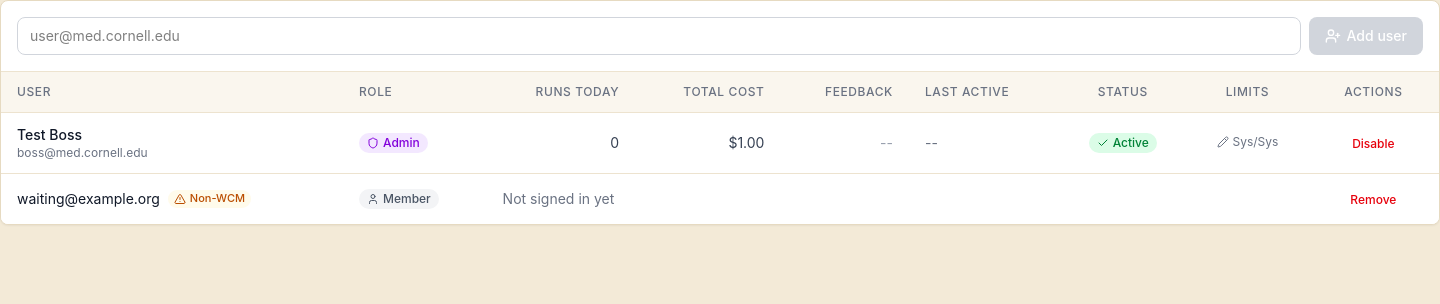
AdminUsers (one Users panel) › refuses an address already on the list
Type "WAITING@example.org" into the field named "New user email". click: (659, 36)
box: [17,17,1300,55]
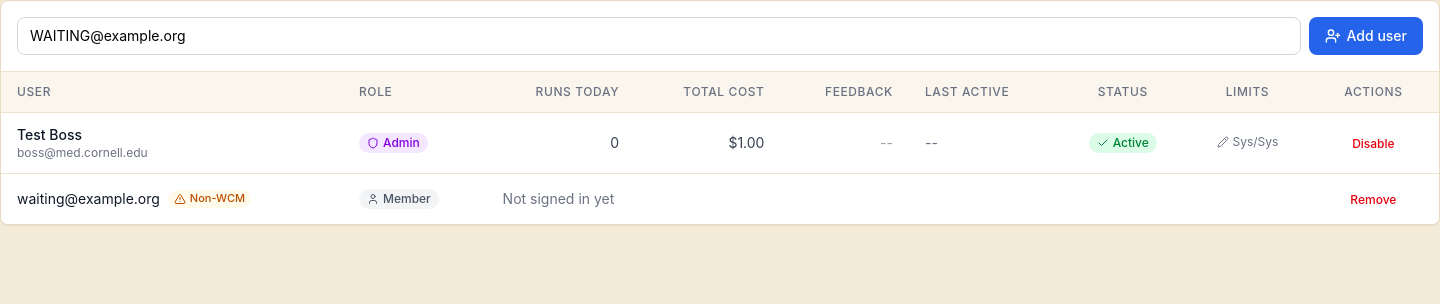
Click the button "Add user". click: (1366, 36)
box: [1308,17,1423,55]
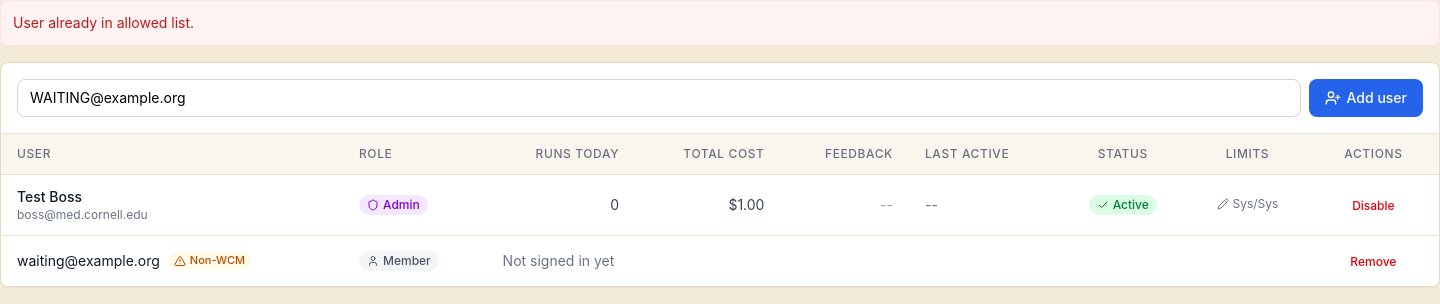
Expected: the text "User already in allowed list." is shown, [0,0,1439,46]
